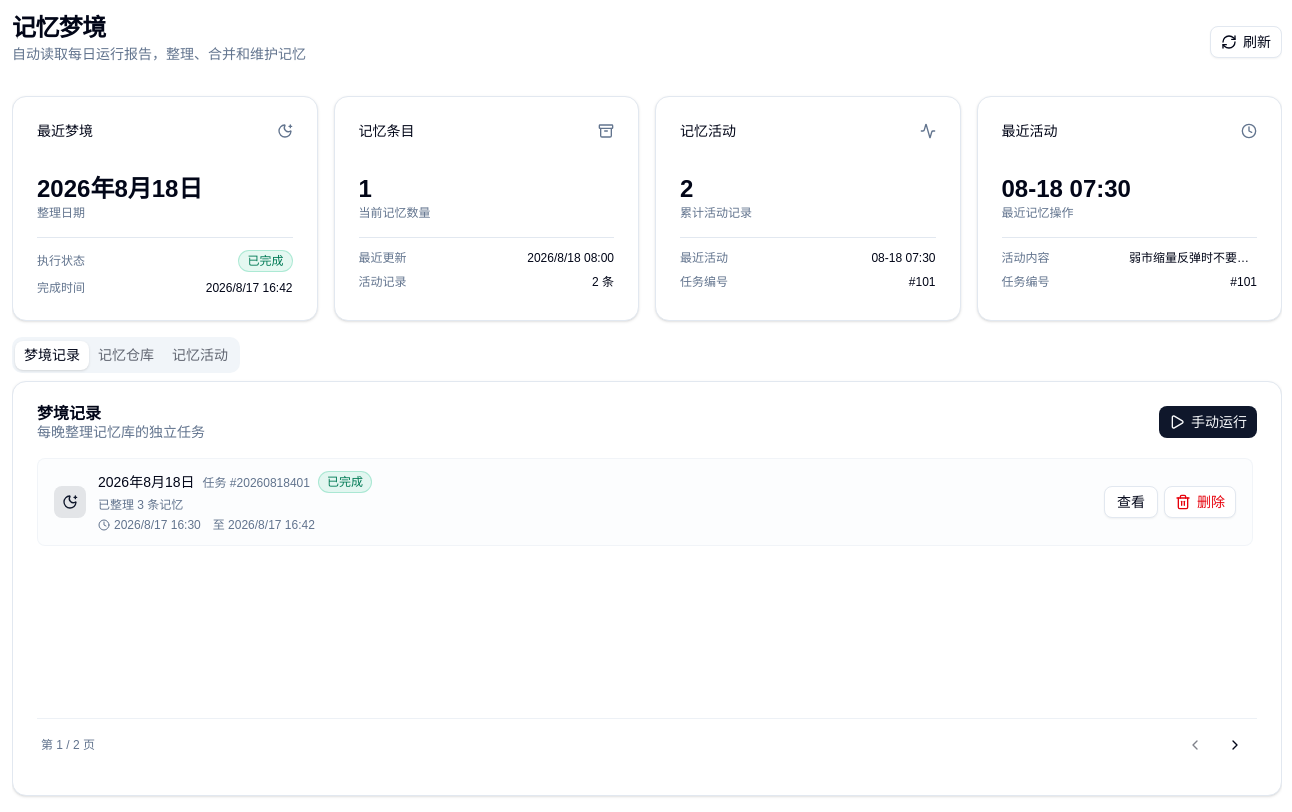
MemoryOverviewPage › uses the API total when paginating dream records
This screenshot has width=1292, height=812.
Expected: the text "已整理 3 条记忆" is shown, x1=98 y1=498 x2=183 y2=512
Click the button named "下一页". click: (1235, 745)
box: x1=1217 y1=727 x2=1253 y2=763
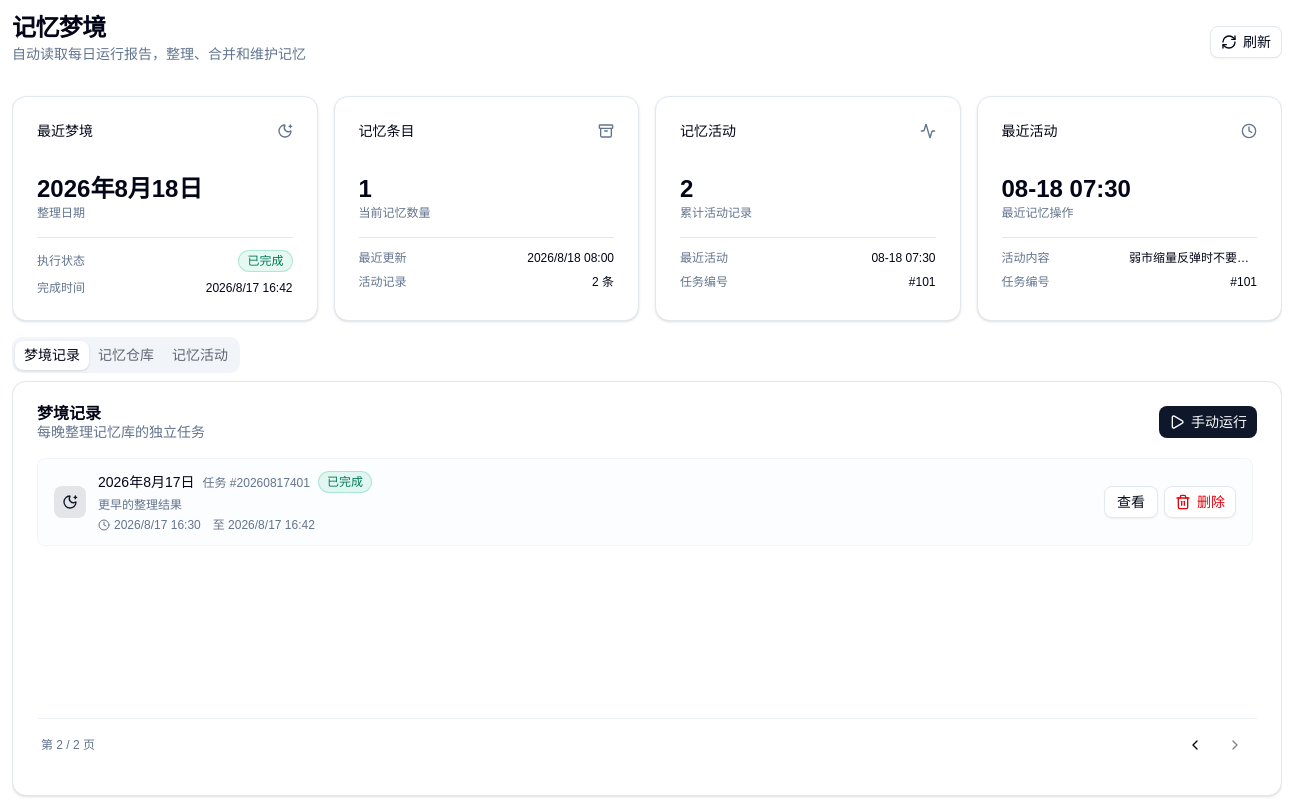
Expected: the text "更早的整理结果" is shown, x1=98 y1=498 x2=182 y2=512
